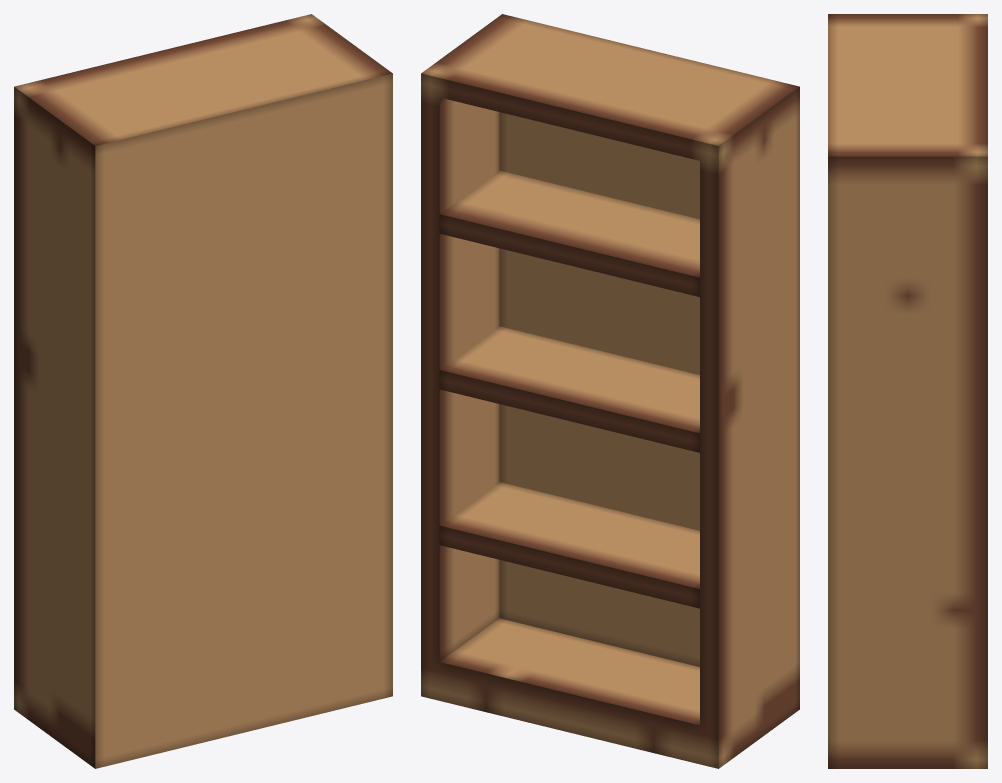
The model's file is SM_Shelf.fbx.
The picture shows the model from 3 angles, left to right: view 1: azimuth 30°, elevation 25°; view 2: azimuth 150°, elevation 25°; view 3: azimuth 270°, elevation 25°; orthographic projection.
Visible parts, largest first — view 1: Shelf.001; view 2: Shelf.001; view 3: Shelf.001.
Part boxes in pixels (x1,y1,x2,y2): Shelf.001: (14, 14, 392, 768); Shelf.001: (421, 14, 799, 768); Shelf.001: (828, 14, 987, 768).
Size of the model in its own units: 51.2 by 102 by 24.21.
